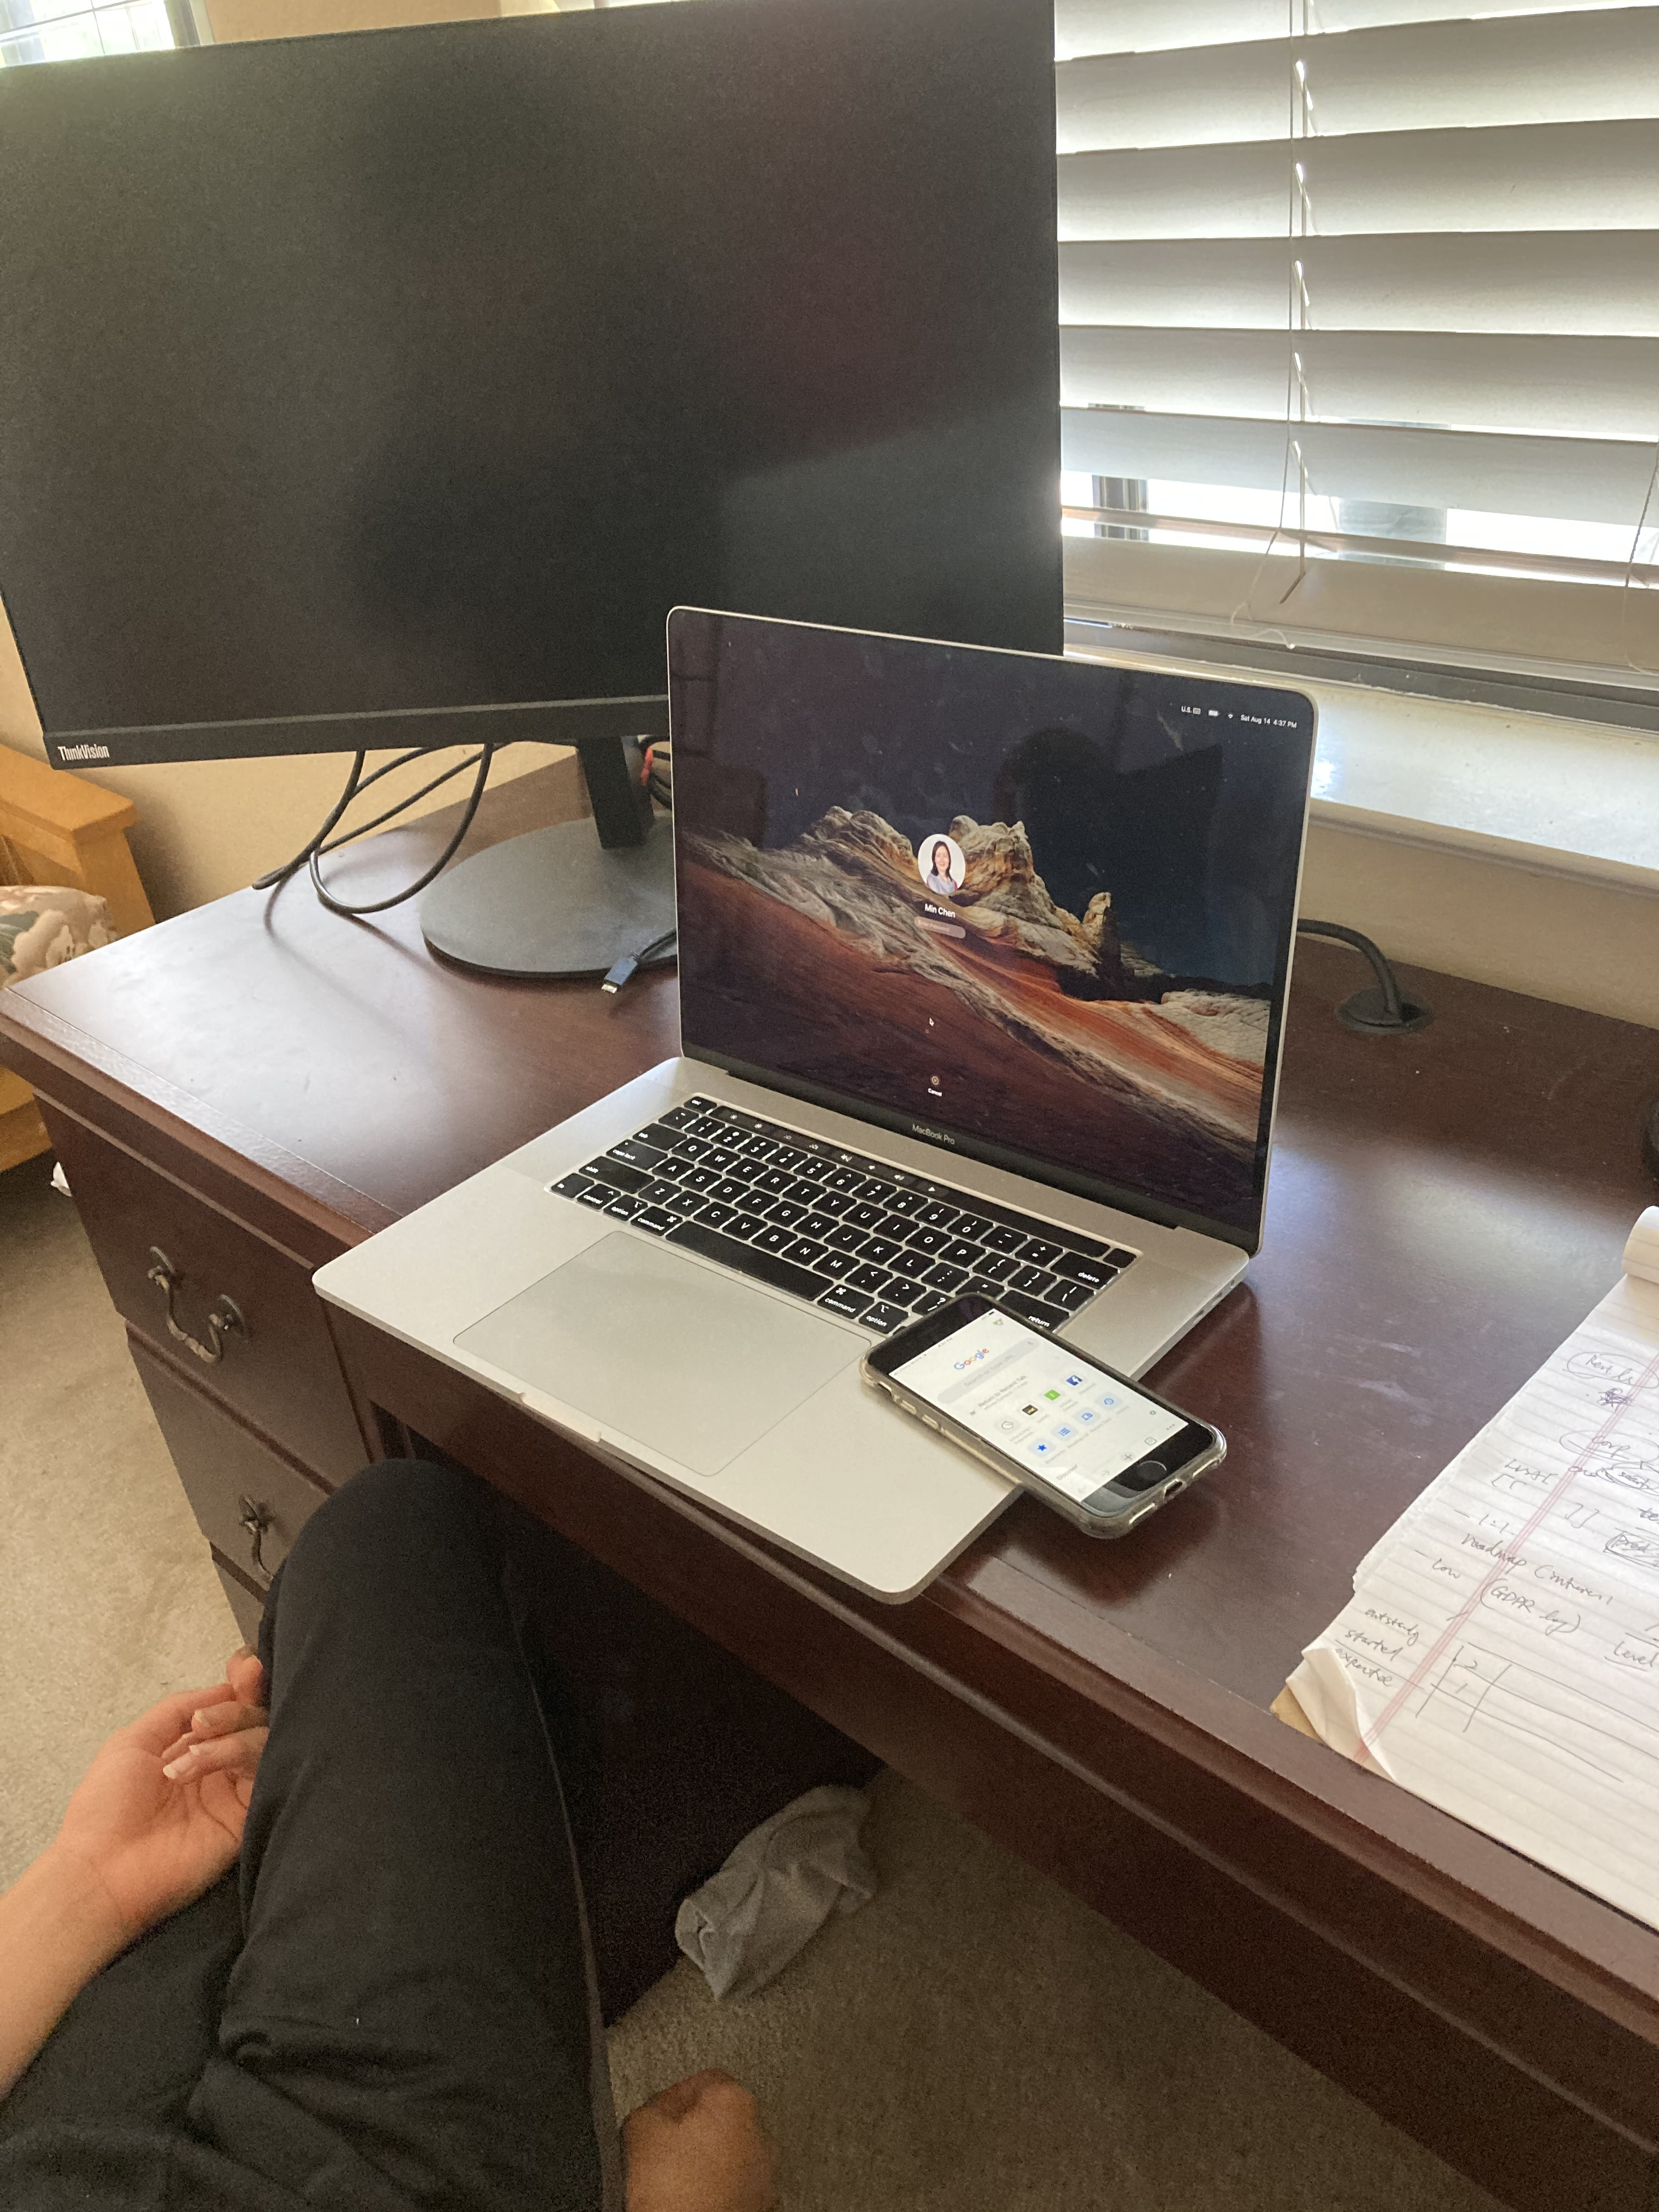Cell Phone: (871, 1299, 1246, 1559)
